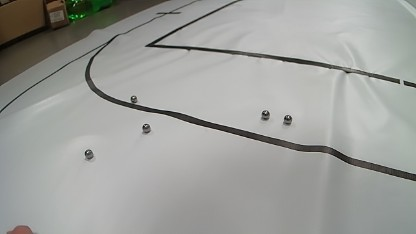ironball: (261, 110, 270, 120), (142, 123, 151, 133), (84, 149, 93, 159), (284, 114, 292, 124), (130, 95, 137, 103)
